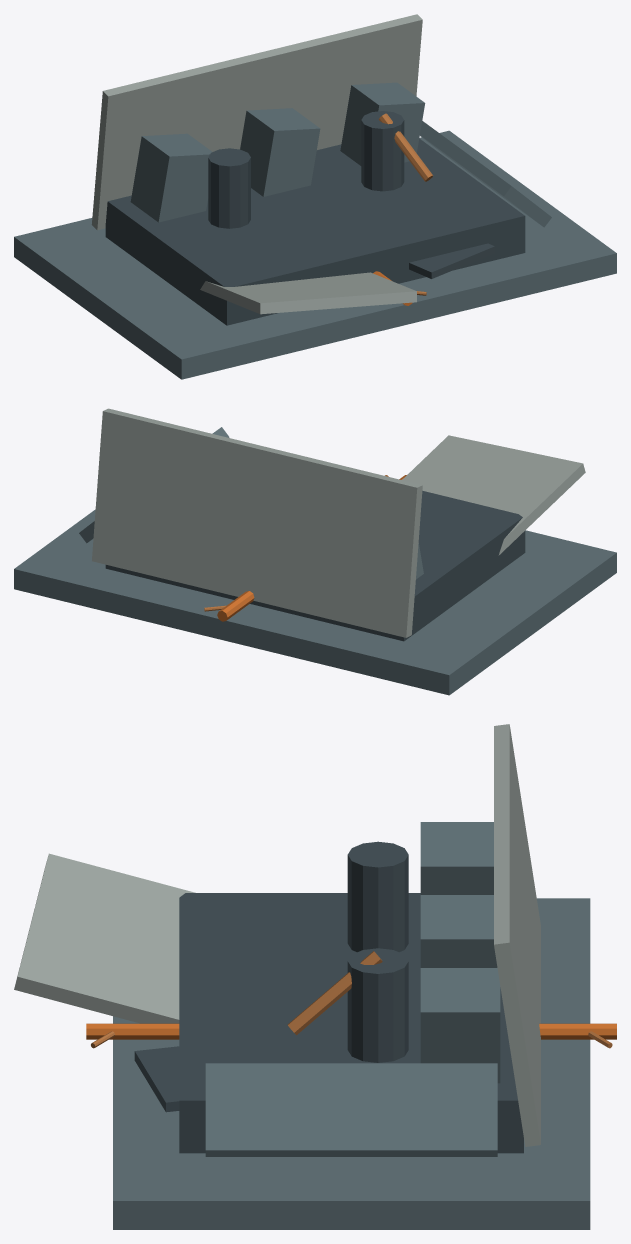
The model's file is solar_power_station_d3.glb.
The picture shows the model from 3 angles, top to bottom: view 1: azimuth 30°, elevation 25°; view 2: azimuth 150°, elevation 25°; view 3: azimuth 270°, elevation 25°; orthographic projection. The views are drawn at different scales.
Visible parts, largest first — view 1: SOLAR_GAME_MESH; view 2: SOLAR_GAME_MESH; view 3: SOLAR_GAME_MESH.
Part boxes in pixels (x1,y1,x2,y2): SOLAR_GAME_MESH: [14, 14, 616, 379]; SOLAR_GAME_MESH: [14, 408, 616, 695]; SOLAR_GAME_MESH: [14, 724, 616, 1229].
Size of the model in its own units: 5.4 by 2.04 by 4.55.
